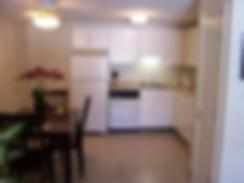Lavaplatos: (137, 79, 171, 89)
